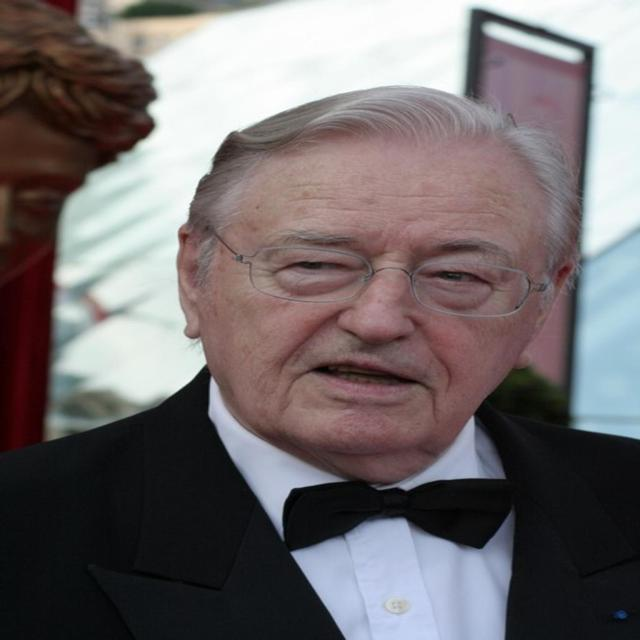Face: (186, 132, 575, 450)
